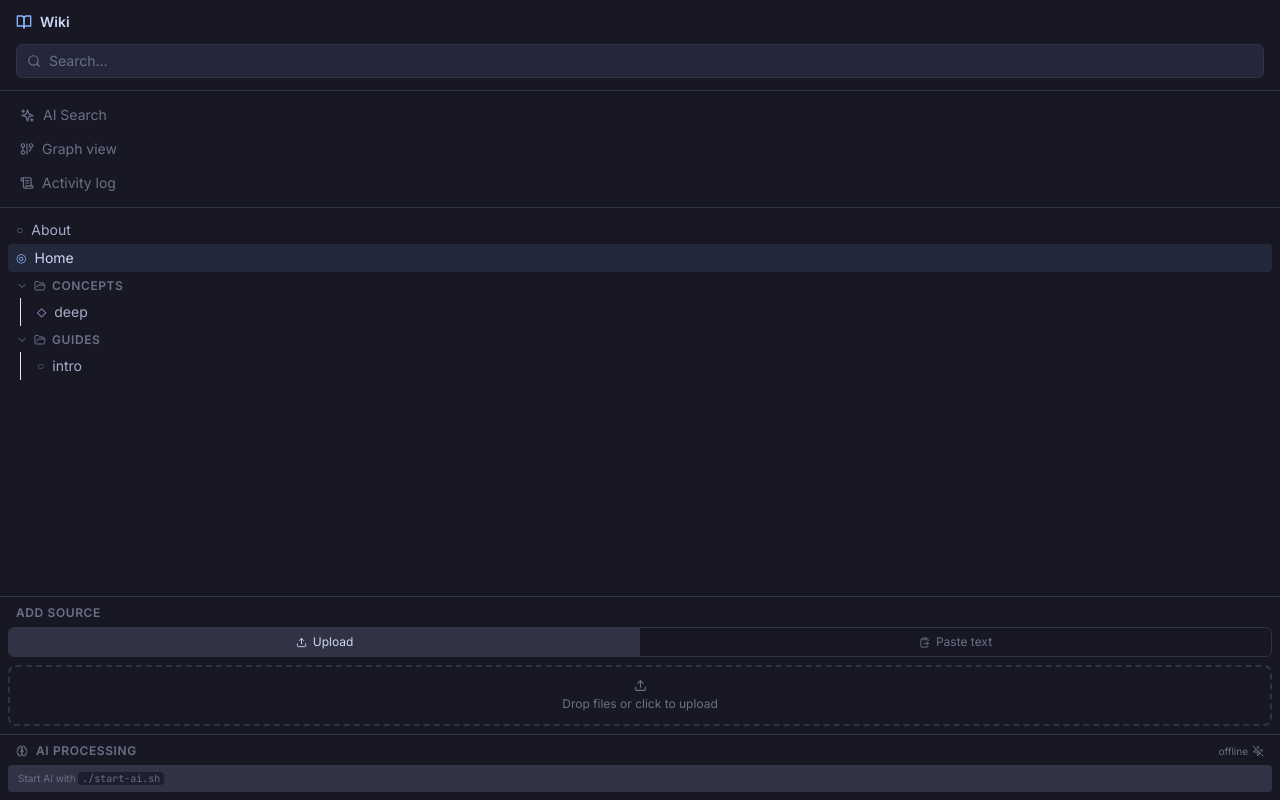
Test case: IngestSection › switches to paste tab
This screenshot has width=1280, height=800.
Click the button "Paste text".
click(956, 642)  # box [640,628,1271,656]
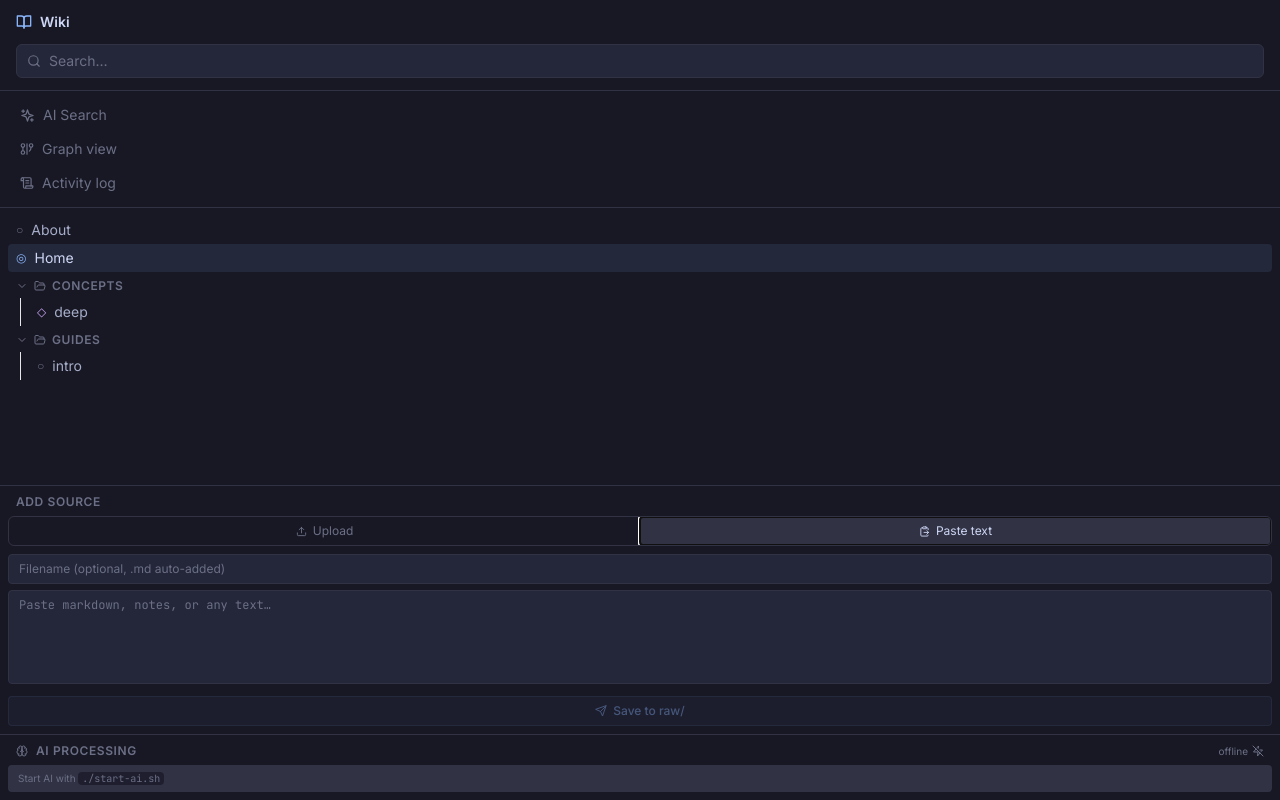
Result: the text box with placeholder "Paste markdown, notes, or any text…" is shown at [8,590,1272,684]
